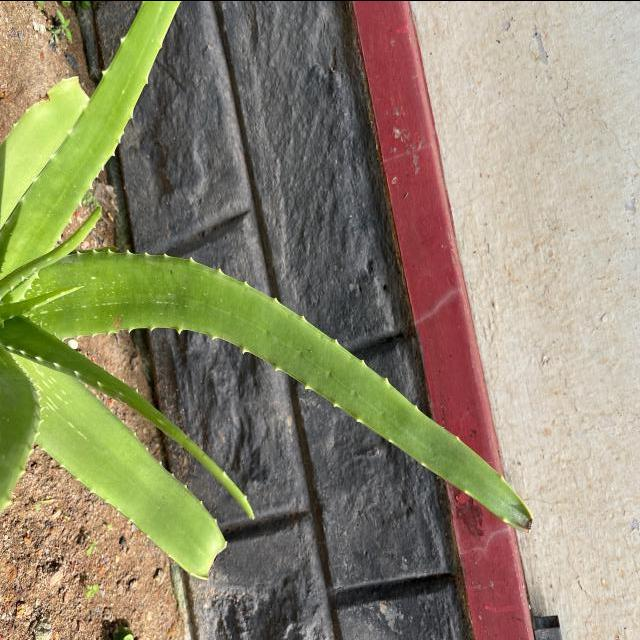Aloe vera: (34, 246, 534, 542)
